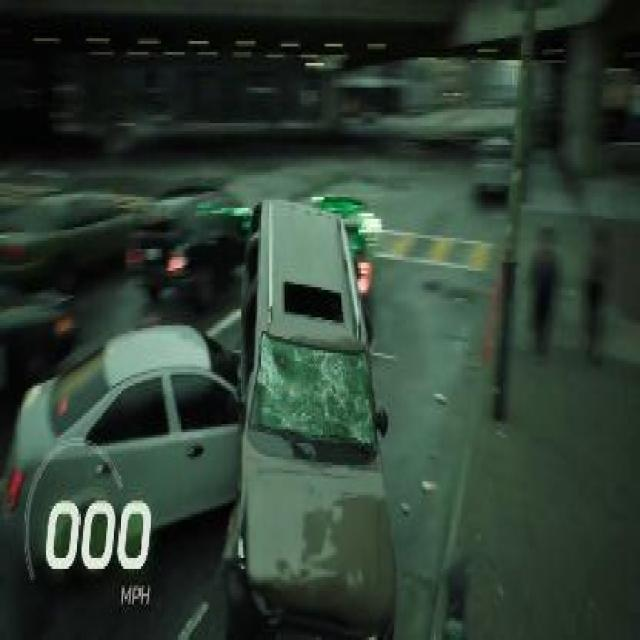accident: (8, 189, 403, 637)
